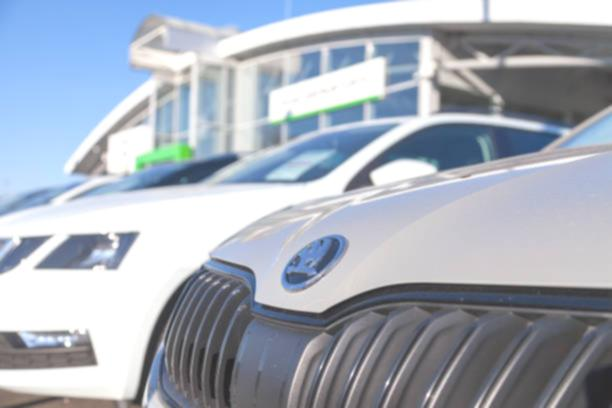skoda: (278, 228, 351, 297)
